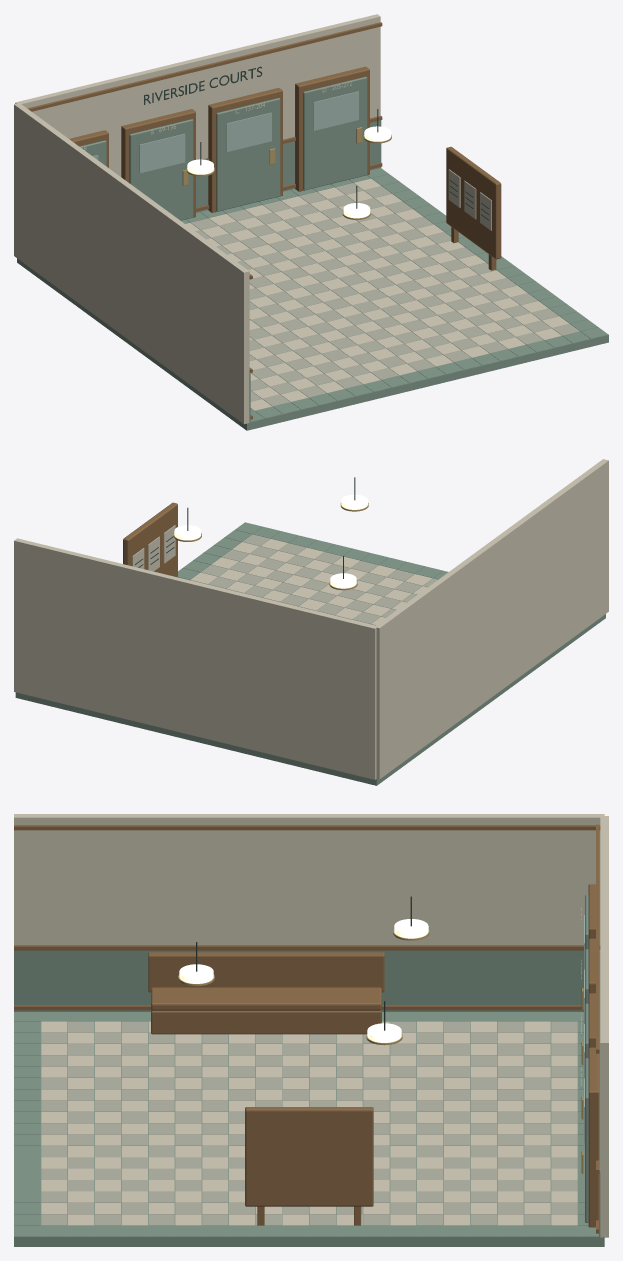
The model's file is interior-riverside.glb.
3 views of the same model, one above another, from view 1: azimuth 30°, elevation 25°; view 2: azimuth 150°, elevation 25°; view 3: azimuth 270°, elevation 25° (orthographic). The views are drawn at different scales.
Visible parts, largest first — view 1: side wall, terrazzo tile.023, terrazzo tile.024, rear wall, rear dado, lobby foundation, rear trim, wing door glazing, waiting bench base, opal ceiling lamp, lobby title; view 2: rear wall, side wall, terrazzo tile.023, lobby foundation, terrazzo tile.024, waiting bench base, opal ceiling lamp; view 3: side wall, terrazzo tile.024, terrazzo tile.023, waiting bench base, lobby foundation, side dado, side trim, rear trim, rear wall, rear dado, opal ceiling lamp.
Boxes of the visible parts, x1,y1,x2,y2 form: side wall: [14, 103, 249, 424]; terrazzo tile.023: [185, 169, 569, 410]; terrazzo tile.024: [191, 183, 579, 406]; rear wall: [15, 14, 380, 176]; rear dado: [79, 76, 381, 220]; lobby foundation: [17, 168, 608, 430]; rear trim: [27, 22, 382, 217]; wing door glazing: [93, 91, 358, 173]; waiting bench base: [446, 146, 501, 270]; opal ceiling lamp: [187, 126, 391, 218]; lobby title: [144, 66, 262, 104]; rear wall: [14, 538, 377, 779]; side wall: [375, 459, 608, 779]; terrazzo tile.023: [132, 525, 432, 625]; lobby foundation: [15, 522, 605, 785]; terrazzo tile.024: [190, 534, 437, 625]; waiting bench base: [123, 502, 177, 577]; opal ceiling lamp: [174, 494, 367, 588]; side wall: [14, 814, 604, 944]; terrazzo tile.024: [41, 1021, 577, 1225]; terrazzo tile.023: [41, 1021, 577, 1225]; waiting bench base: [148, 952, 384, 1225]; lobby foundation: [14, 1012, 604, 1246]; side dado: [14, 950, 583, 1011]; side trim: [14, 825, 600, 1010]; rear trim: [588, 824, 599, 1233]; rear wall: [600, 816, 608, 1237]; rear dado: [585, 894, 600, 1236]; opal ceiling lamp: [179, 919, 428, 1042].
Bounding box in the file's own units: 10.08 × 4.19 × 11.08.
